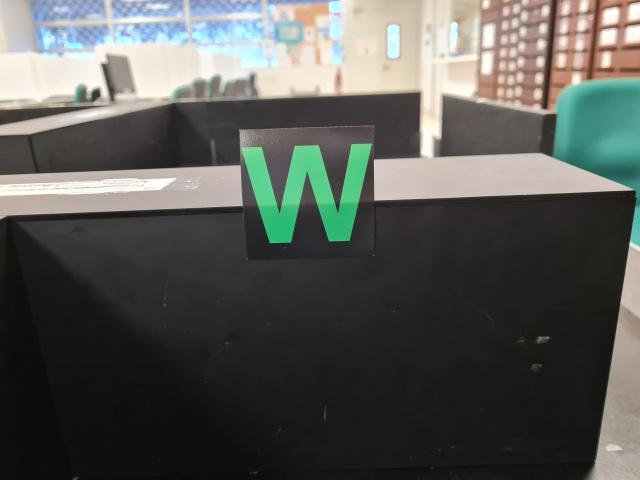w: (238, 125, 380, 261)
